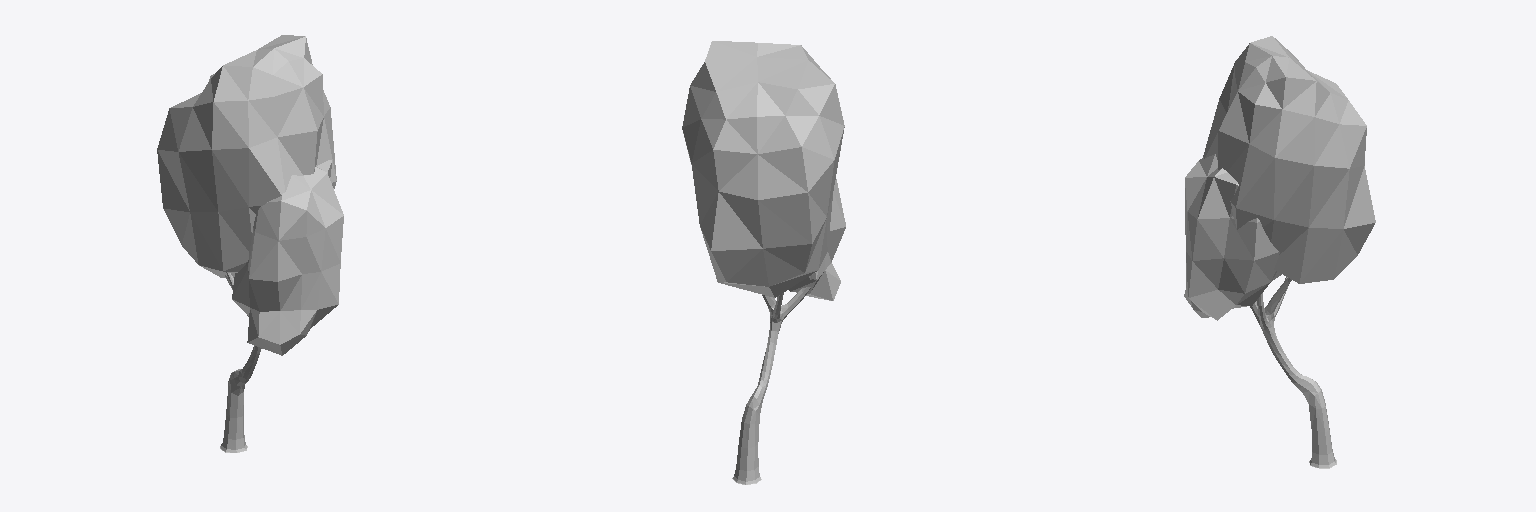
File: BirchTree_2.obj
3 renders of one model, left to right at view 1: azimuth 30°, elevation 25°; view 2: azimuth 150°, elevation 25°; view 3: azimuth 270°, elevation 25°, orthographic.
Visible parts, largest first — view 1: BirchTree_2_Cube.064; view 2: BirchTree_2_Cube.064; view 3: BirchTree_2_Cube.064.
Part boxes in pixels (bbox=[...]): BirchTree_2_Cube.064: bbox=[157, 35, 343, 452]; BirchTree_2_Cube.064: bbox=[682, 41, 845, 484]; BirchTree_2_Cube.064: bbox=[1184, 36, 1375, 468].
Bounding box in the file's own units: 1.47 × 4.03 × 1.69.